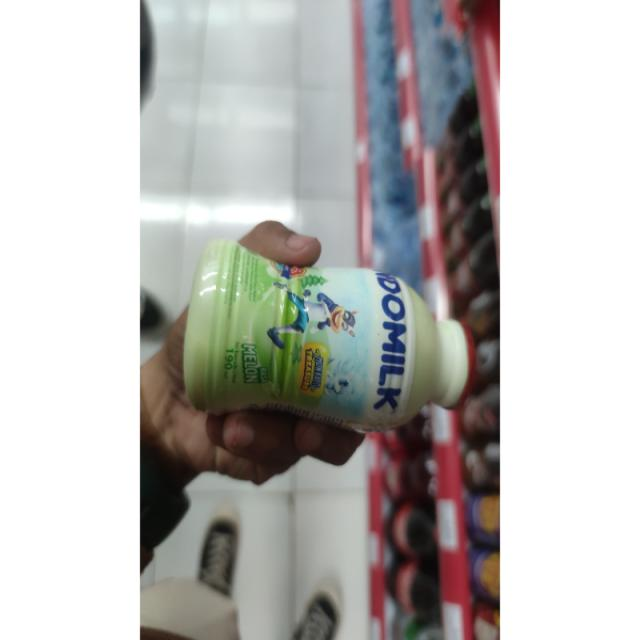botol: (166, 190, 499, 463)
